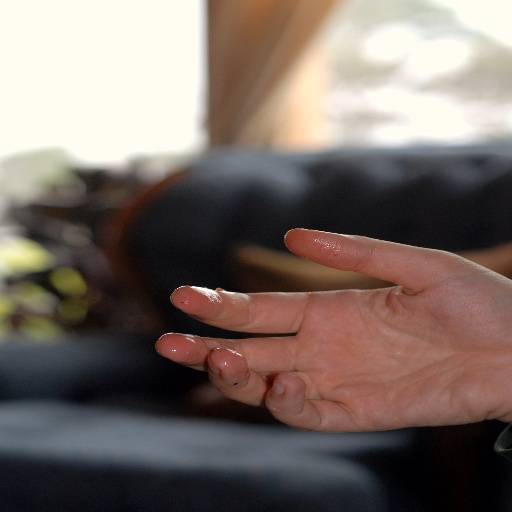hand: (154, 224, 511, 435)
